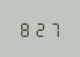eight: (18, 20, 31, 37)
seven: (47, 20, 60, 37)
two: (33, 20, 46, 37)
